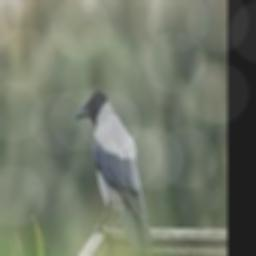Crow: (75, 88, 152, 248)
